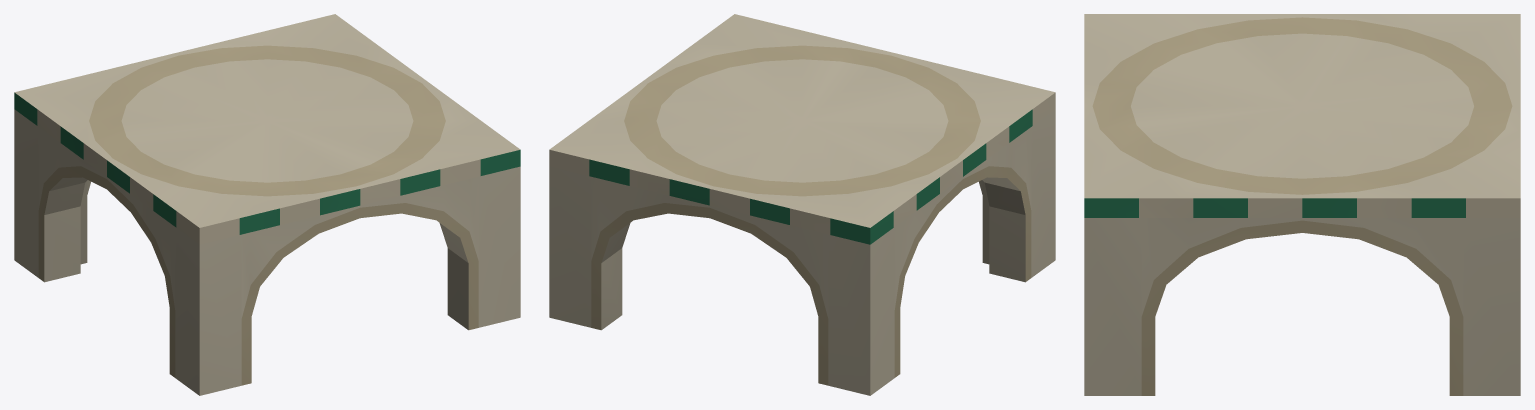
File: dome.arch_4way.green.glb
3 renders of one model, left to right at view 1: azimuth 30°, elevation 25°; view 2: azimuth 150°, elevation 25°; view 3: azimuth 270°, elevation 25°, orthographic. The views are drawn at different scales.
Visible parts, largest first — view 1: dome_arch_4way_green; view 2: dome_arch_4way_green; view 3: dome_arch_4way_green.
Boxes of the visible parts, bbox=[...] form: dome_arch_4way_green: bbox=[14, 14, 520, 395]; dome_arch_4way_green: bbox=[549, 14, 1055, 395]; dome_arch_4way_green: bbox=[1084, 14, 1520, 395].
Size of what is drawn, in the model's own units: 8 by 4 by 8.
